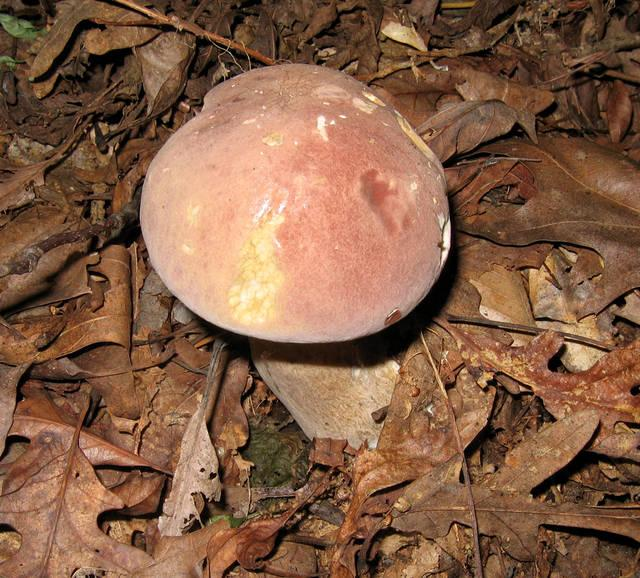Non-edible Mushroom: (137, 61, 454, 451)
